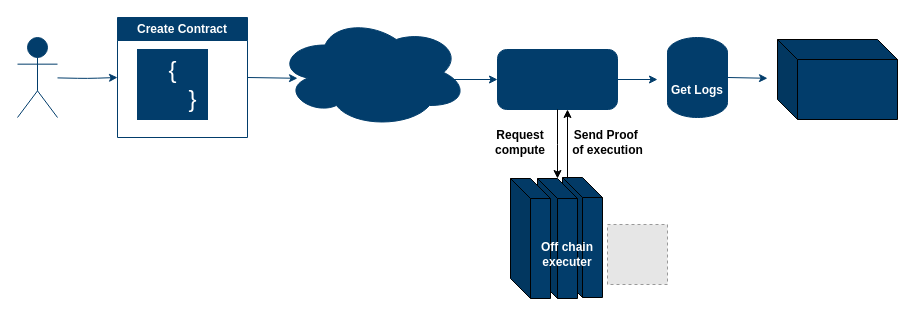
Image size: 915x316. Some labels were removed from this diagram. Grey dashed boxes stand in for pictures. Here are the shapes that lost their labels. From the top down, the centre of each, then its label:
(x=372, y=72): Deploy to Blockchain
(x=557, y=79): Call Function
(x=837, y=79): Visualize Results
